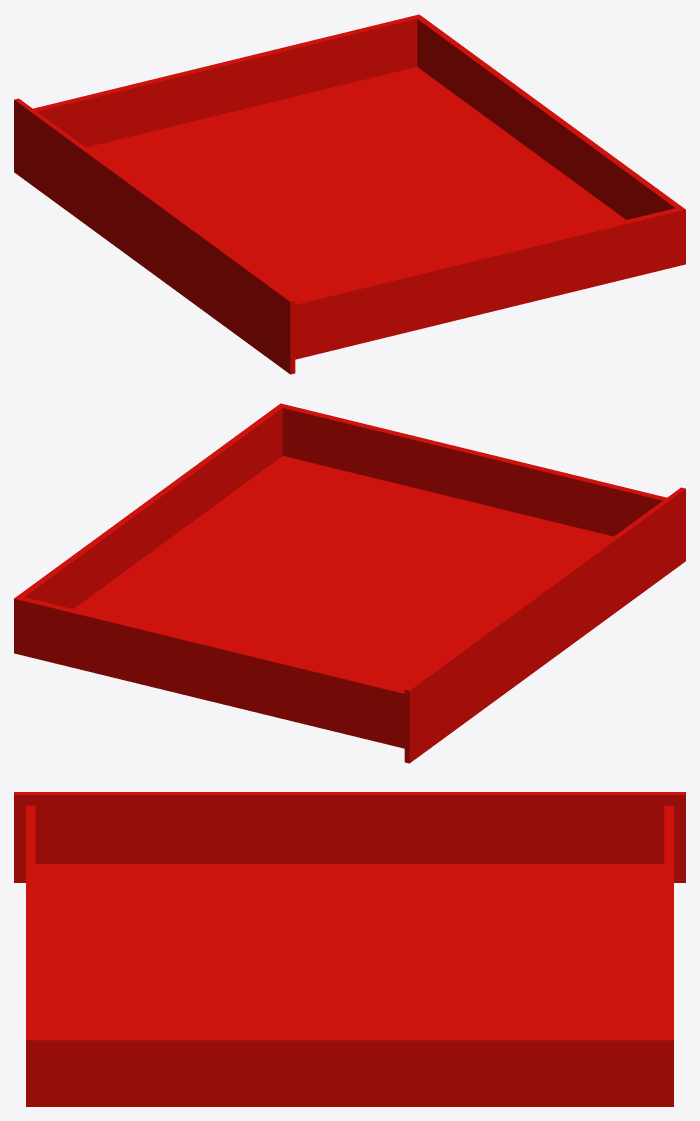
Rendered from Cajon_Caja_Puzle.fbx.
3 renders of one model, top to bottom at view 1: azimuth 30°, elevation 25°; view 2: azimuth 150°, elevation 25°; view 3: azimuth 270°, elevation 25°, orthographic. The views are drawn at different scales.
Parts seen in each view (by area): view 1: Cajon_Caja_Puzle; view 2: Cajon_Caja_Puzle; view 3: Cajon_Caja_Puzle.
Part boxes in pixels (x1,y1,x2,y2): Cajon_Caja_Puzle: [14, 14, 685, 374]; Cajon_Caja_Puzle: [14, 403, 685, 763]; Cajon_Caja_Puzle: [14, 792, 685, 1106].
Size of what is drawn, in the model's own units: 16.09 by 2.79 by 19.24.
